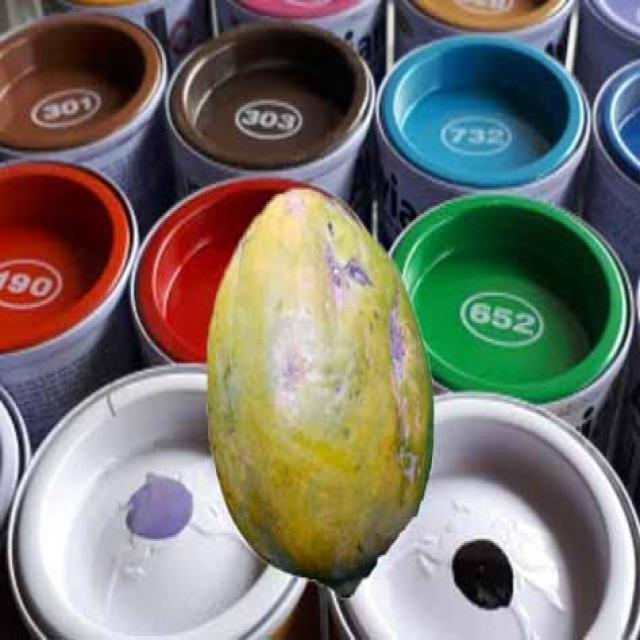Pepaya rippen: (201, 187, 428, 604)
